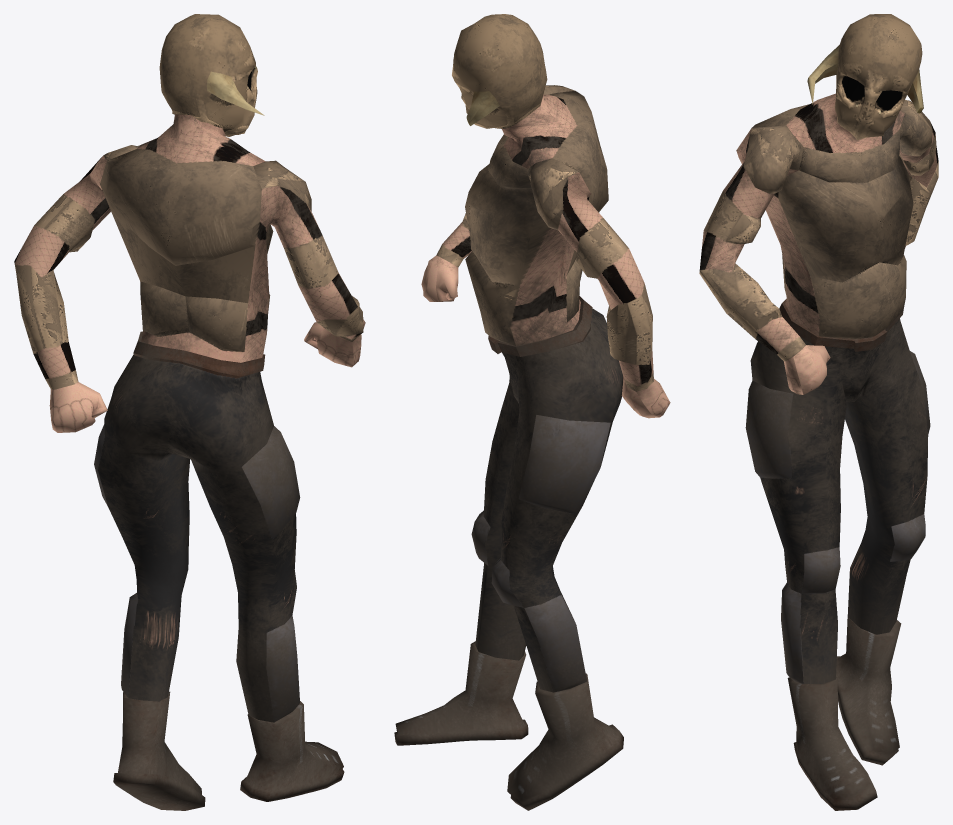
File: Anim_ataque_f3_npc1.0035.obj
3 renders of one model, left to right at view 1: azimuth 30°, elevation 25°; view 2: azimuth 150°, elevation 25°; view 3: azimuth 270°, elevation 25°, orthographic. The views are drawn at different scales.
Visible parts, largest first — view 1: NPC2; view 2: NPC2; view 3: NPC2.
Part boxes in pixels (x1=…): NPC2: x1=14, y1=14, x2=365, y2=810; NPC2: x1=394, y1=14, x2=670, y2=810; NPC2: x1=699, y1=14, x2=938, y2=810.
Size of the model in its own units: 3.73 by 9.81 by 2.81.
